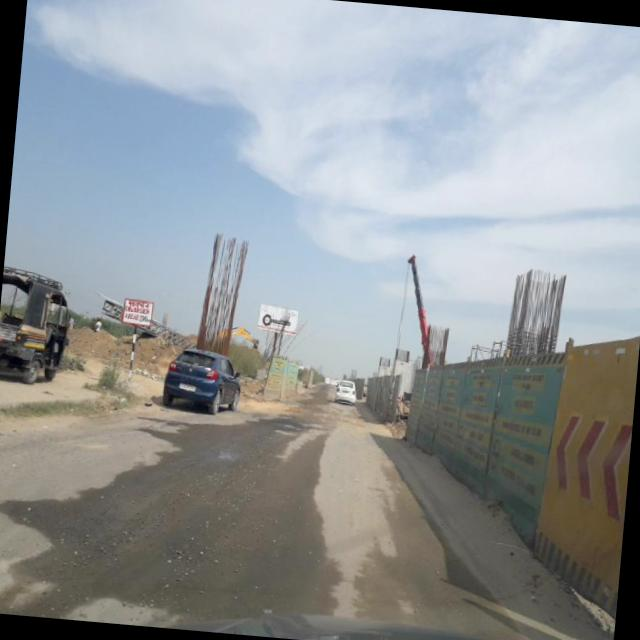pothole: (256, 398, 309, 439), (197, 434, 250, 474)
